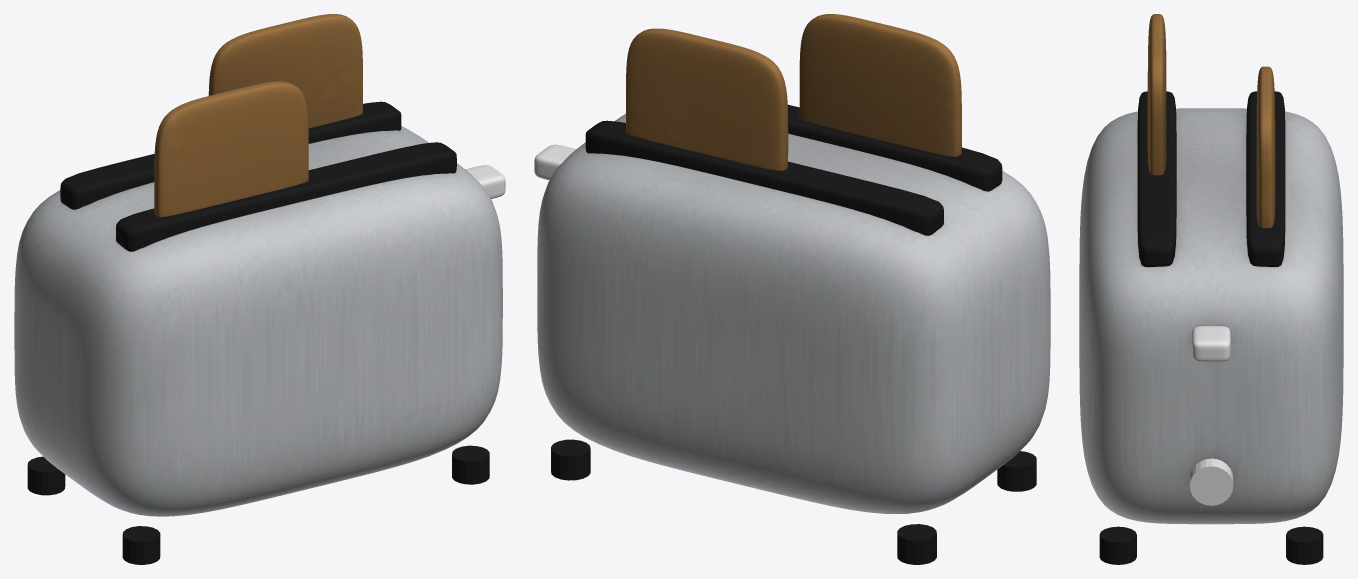
Rendered from steel-with-toast.glb.
3 views of the same model, side by side, from view 1: azimuth 30°, elevation 25°; view 2: azimuth 150°, elevation 25°; view 3: azimuth 270°, elevation 25° (orthographic). The views are drawn at different scales.
Parts seen in each view (by area): view 1: steel, toast, slot_dark, rubber_foot, chrome; view 2: steel, toast, slot_dark, rubber_foot, chrome; view 3: steel, slot_dark, toast, chrome, rubber_foot.
Part boxes in pixels (x1=…): steel: x1=14, y1=126, x2=502, y2=516; toast: x1=154, y1=14, x2=362, y2=217; slot_dark: x1=60, y1=101, x2=456, y2=251; rubber_foot: x1=27, y1=445, x2=489, y2=564; chrome: x1=465, y1=165, x2=505, y2=198; steel: x1=537, y1=114, x2=1050, y2=513; toast: x1=626, y1=14, x2=961, y2=170; slot_dark: x1=585, y1=104, x2=1002, y2=235; rubber_foot: x1=551, y1=439, x2=1036, y2=564; chrome: x1=534, y1=144, x2=576, y2=180; steel: x1=1079, y1=108, x2=1343, y2=524; slot_dark: x1=1137, y1=91, x2=1285, y2=267; toast: x1=1147, y1=14, x2=1275, y2=228; chrome: x1=1189, y1=326, x2=1233, y2=505; rubber_foot: x1=1099, y1=526, x2=1323, y2=564.
Size of the model in its own units: 0.325 by 0.295 by 0.17.
Materials: 5 (2 with a texture image).
